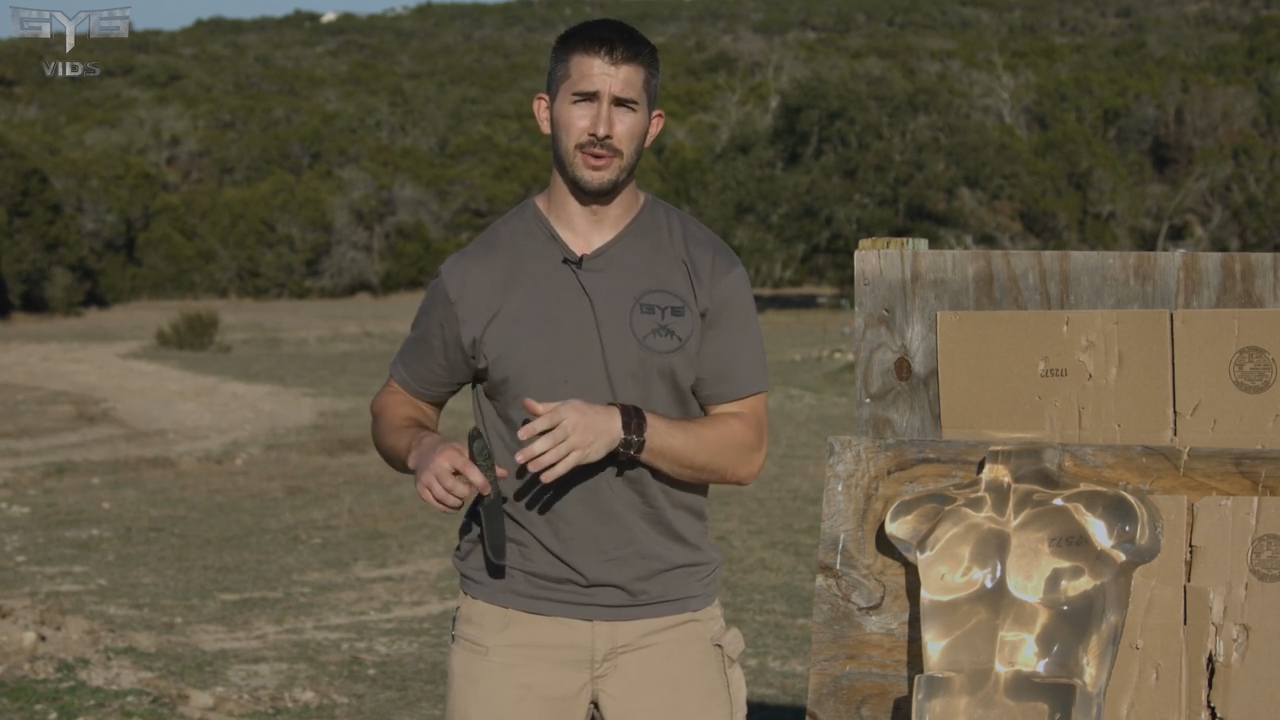knife: (430, 428, 518, 580)
